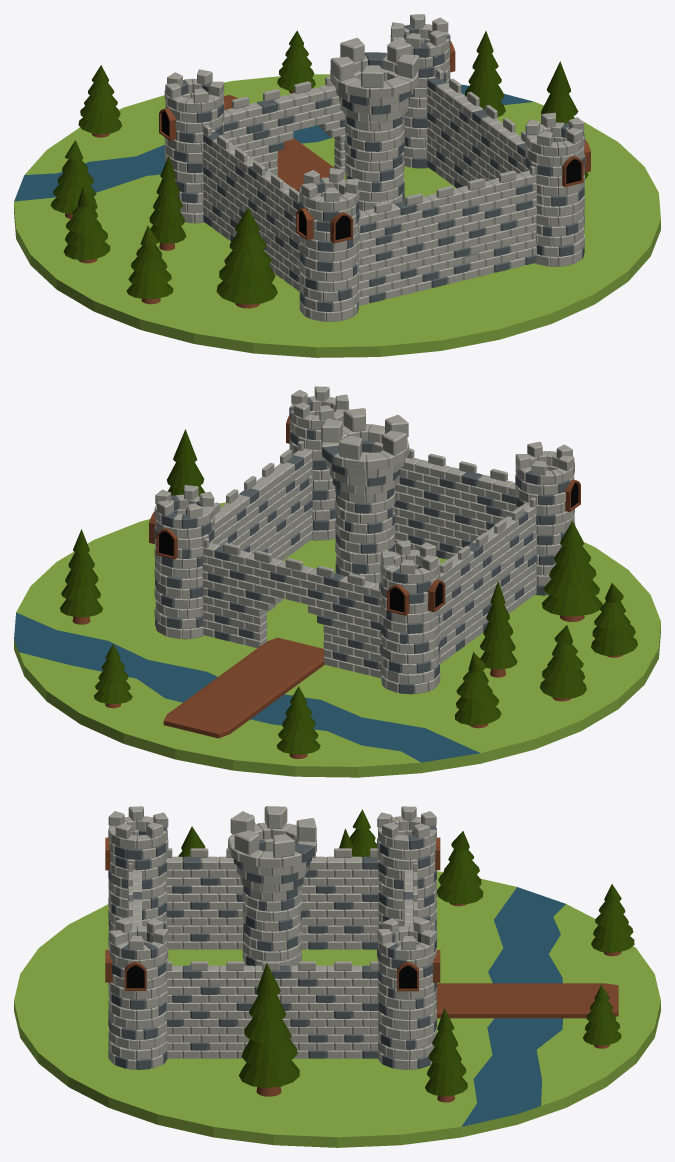
The model's file is uploads_files_4153747_Low+Poly+Castle(1).fbx.
3 renders of one model, top to bottom at view 1: azimuth 30°, elevation 25°; view 2: azimuth 150°, elevation 25°; view 3: azimuth 270°, elevation 25°, orthographic.
Parts seen in each view (by area): view 1: Castle, Ground, Tree 1.002, Tree 2, Tree 2.002, Tree 1.001, Tree 1.004, Bridge, Tree 2.001, Tree 1.005, Tree 1, Tree 1.003; view 2: Castle, Ground, Bridge, Tree 1.002, Tree 1.005, Tree 2, Tree 2.002, Tree 2.001, Tree 1.001, Tree 1.004, Tree 1, Tree 1.003; view 3: Ground, Castle, Bridge, Tree 1.003, Tree 1.005, Tree 2.001, Tree 1.004, Tree 1, Tree 2.
Part boxes in pixels (x1=…): Castle: x1=159, y1=14, x2=590, y2=321; Ground: x1=14, y1=74, x2=660, y2=357; Tree 1.002: x1=216, y1=208, x2=277, y2=308; Tree 2: x1=63, y1=187, x2=110, y2=263; Tree 2.002: x1=126, y1=225, x2=173, y2=304; Tree 1.001: x1=149, y1=156, x2=186, y2=250; Tree 1.004: x1=78, y1=65, x2=121, y2=137; Bridge: x1=224, y1=95, x2=334, y2=191; Tree 2.001: x1=50, y1=140, x2=97, y2=218; Tree 1.005: x1=465, y1=31, x2=505, y2=116; Tree 1: x1=277, y1=30, x2=315, y2=93; Tree 1.003: x1=540, y1=61, x2=588, y2=179; Castle: x1=149, y1=386, x2=580, y2=694; Ground: x1=14, y1=502, x2=660, y2=777; Bridge: x1=163, y1=637, x2=324, y2=738; Tree 1.002: x1=541, y1=521, x2=602, y2=621; Tree 1.005: x1=60, y1=529, x2=102, y2=624; Tree 2: x1=540, y1=625, x2=586, y2=701; Tree 2.002: x1=591, y1=583, x2=637, y2=657; Tree 2.001: x1=454, y1=652, x2=501, y2=728; Tree 1.001: x1=480, y1=581, x2=517, y2=677; Tree 1.004: x1=276, y1=686, x2=320, y2=758; Tree 1: x1=94, y1=644, x2=132, y2=708; Tree 1.003: x1=167, y1=429, x2=205, y2=496; Ground: x1=14, y1=871, x2=660, y2=1147; Castle: x1=105, y1=806, x2=440, y2=1069; Bridge: x1=436, y1=983, x2=618, y2=1018; Tree 1.003: x1=239, y1=962, x2=299, y2=1096; Tree 1.005: x1=425, y1=1008, x2=467, y2=1102; Tree 2.001: x1=437, y1=831, x2=483, y2=906; Tree 1.004: x1=591, y1=884, x2=634, y2=956; Tree 1: x1=583, y1=985, x2=621, y2=1048; Tree 2: x1=349, y1=809, x2=376, y2=857.
Bounding box in the file's own units: 8161 × 2634 × 8161.
